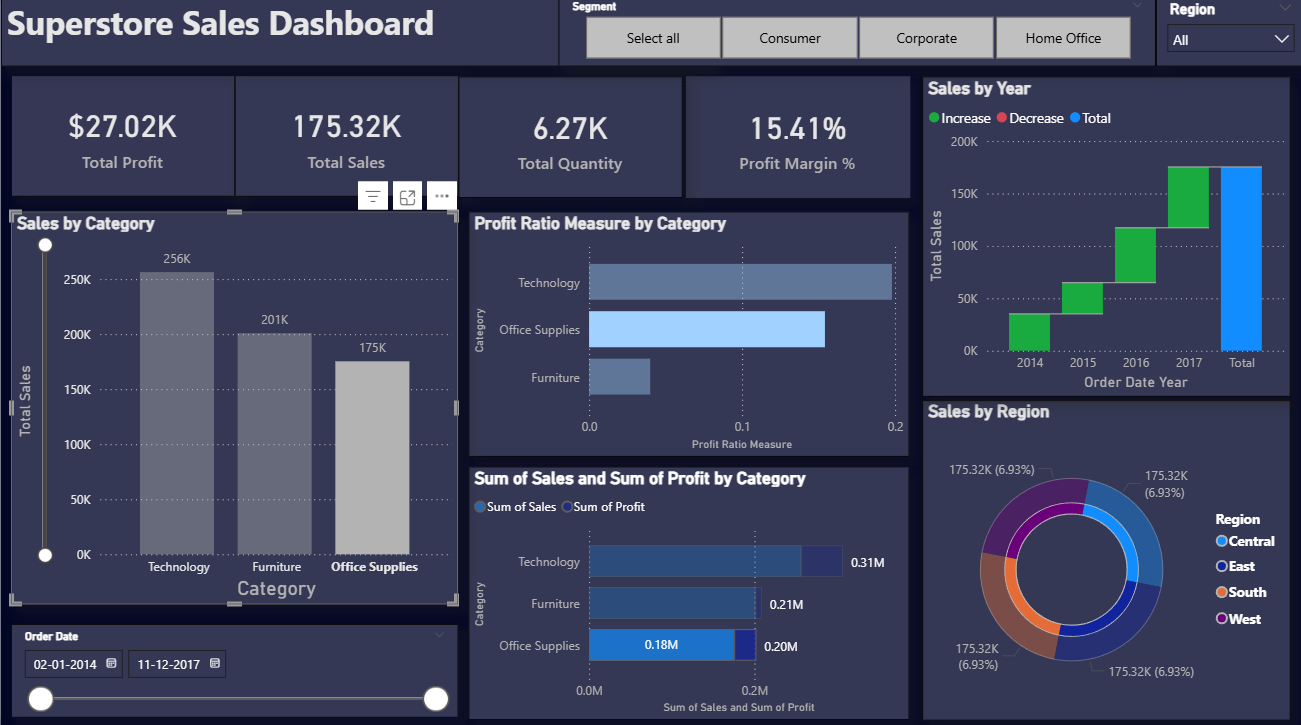

This screenshot's page, from the dashboard's own definition file:
{"tool":"powerbi","page":{"name":"Page 4","canvas":[1280,720],"ordinal":3},"visuals":[{"type":"card","fields":{"Values":["Store.Total Profit"]},"box":[9.8,79.8,219.6,119],"z":0},{"type":"card","fields":{"Values":["Store.Total Sales"]},"box":[229.4,79.8,219.6,119],"z":1000},{"type":"card","fields":{"Values":["Store.Profit Margin %"]},"box":[672.4,81,219.6,119],"z":2000},{"type":"card","fields":{"Values":["Customer Details.Total Quantity"]},"box":[449.1,81,219.6,119],"z":3000},{"type":"textbox","box":[0,0,694.5,71.2],"z":4000},{"type":"columnChart","title":"Sales by Category","fields":{"Category":["Product Details.Category"],"Y":["Store.Total Sales"]},"box":[9.8,213.5,439.3,386.5],"z":5000},{"type":"donutChart","title":" Sales by Region","fields":{"Category":["Location Details.Region"],"Y":["Store.Total Sales"]},"box":[904.3,398.8,362,314.1],"z":6000},{"type":"waterfallChart","title":" Sales by Year","fields":{"Category":["Store.Order Date.Variation.Date Hierarchy.Year","Store.Order Date.Variation.Date Hierarchy.Quarter","Store.Order Date.Variation.Date Hierarchy.Month","Store.Order Date.Variation.Date Hierarchy.Day"],"Y":["Store.Total Sales"]},"box":[904.3,81,362,314.1],"z":7000},{"type":"barChart","fields":{"Category":["Product Details.Category"],"Y":["Store.Profit Ratio Measure"]},"box":[458.9,213.5,433.1,240.5],"z":8000},{"type":"slicer","fields":{"Values":["Customer Details.Segment"]},"box":[547.2,0,586.5,71.2],"z":9000},{"type":"slicer","fields":{"Values":["Location Details.Region"]},"box":[1133.5,0,146.8,71.4],"z":10000},{"type":"slicer","fields":{"Values":["Store.Order Date"]},"box":[9.6,618.9,439.1,91.9],"z":11000},{"type":"barChart","fields":{"Category":["Product Details.Category"],"Y":["Sum(Store.Sales)","Sum(Store.Profit)"]},"box":[458.9,463.8,433.1,249.1],"z":12000}]}

Visuals, with their boxes in screenshot pixels (x1, y1, x2, y2), scaled from the page's 1280x720 canvas onto the 1301x725 screenshot:
card - Store.Total Profit: (left=10, top=80, right=233, bottom=200)
card - Store.Total Sales: (left=233, top=80, right=456, bottom=200)
card - Store.Profit Margin %: (left=683, top=82, right=907, bottom=201)
card - Customer Details.Total Quantity: (left=456, top=82, right=680, bottom=201)
textbox: (left=0, top=0, right=706, bottom=72)
"Sales by Category" columnChart: (left=10, top=215, right=456, bottom=604)
" Sales by Region" donutChart: (left=919, top=402, right=1287, bottom=718)
" Sales by Year" waterfallChart: (left=919, top=82, right=1287, bottom=398)
barChart - Product Details.Category x Store.Profit Ratio Measure: (left=466, top=215, right=907, bottom=457)
slicer - Customer Details.Segment: (left=556, top=0, right=1152, bottom=72)
slicer - Location Details.Region: (left=1152, top=0, right=1300, bottom=72)
slicer - Store.Order Date: (left=10, top=623, right=456, bottom=716)
barChart - Product Details.Category x Sum(Store.Sales): (left=466, top=467, right=907, bottom=718)
